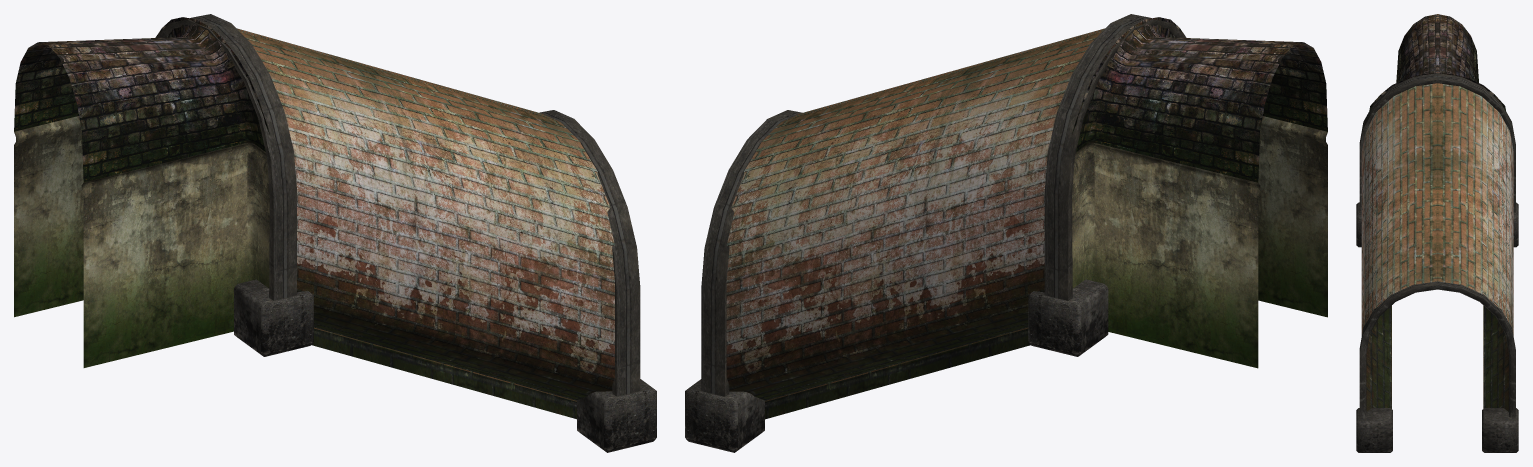
The model's file is TL_stairs.DAE.
The picture shows the model from 3 angles, left to right: view 1: azimuth 30°, elevation 25°; view 2: azimuth 150°, elevation 25°; view 3: azimuth 270°, elevation 25°; orthographic projection. The views are drawn at different scales.
Visible parts, largest first — view 1: tunnel_low_stairs, tunnel_low_stairs_top, tunnel_low_stairs_top_ceiling, tunnel_low_arch_stairs; view 2: tunnel_low_stairs, tunnel_low_stairs_top, tunnel_low_stairs_top_ceiling, tunnel_low_arch_stairs; view 3: tunnel_low_stairs, tunnel_low_arch_stairs, tunnel_low_stairs_top_ceiling.
Boxes of the visible parts, left/top/right/bottom form: tunnel_low_stairs: left=237, top=28, right=614, bottom=419; tunnel_low_stairs_top: left=14, top=116, right=269, bottom=367; tunnel_low_stairs_top_ceiling: left=14, top=17, right=269, bottom=182; tunnel_low_arch_stairs: left=155, top=14, right=656, bottom=452; tunnel_low_stairs: left=726, top=28, right=1104, bottom=419; tunnel_low_stairs_top: left=1072, top=116, right=1327, bottom=368; tunnel_low_stairs_top_ceiling: left=1072, top=17, right=1327, bottom=182; tunnel_low_arch_stairs: left=685, top=14, right=1186, bottom=452; tunnel_low_stairs: left=1361, top=83, right=1513, bottom=412; tunnel_low_arch_stairs: left=1356, top=73, right=1518, bottom=452; tunnel_low_stairs_top_ceiling: left=1369, top=14, right=1506, bottom=112.
Size of the model in its own units: 6.31 by 2.77 by 5.33.
